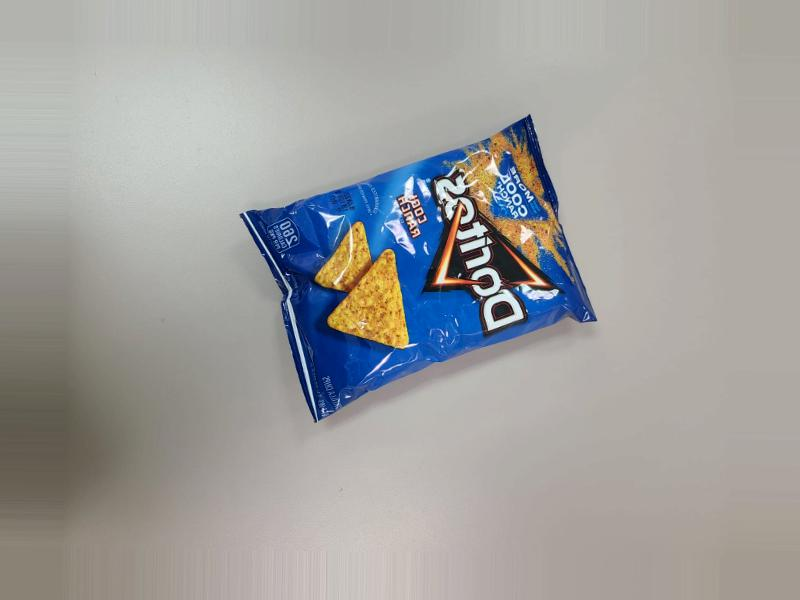doritos: (249, 89, 584, 440)
